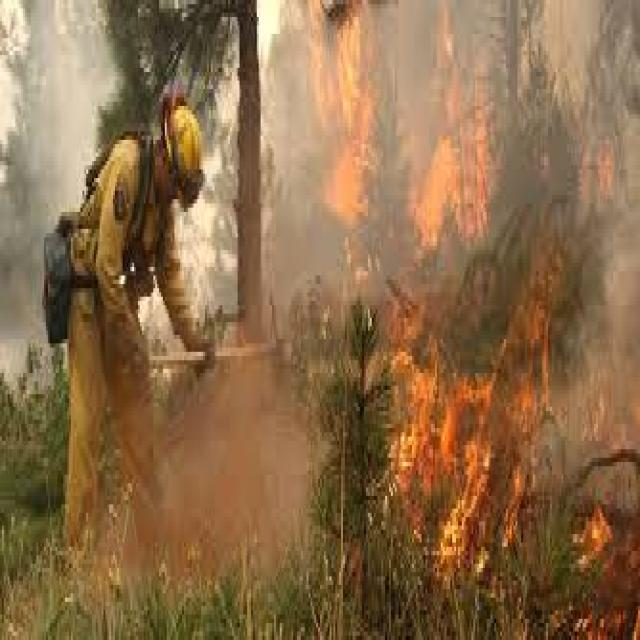Fire: (390, 313, 520, 587), (414, 13, 490, 230), (306, 0, 376, 221), (521, 259, 561, 408), (567, 496, 617, 580), (594, 140, 610, 190)
